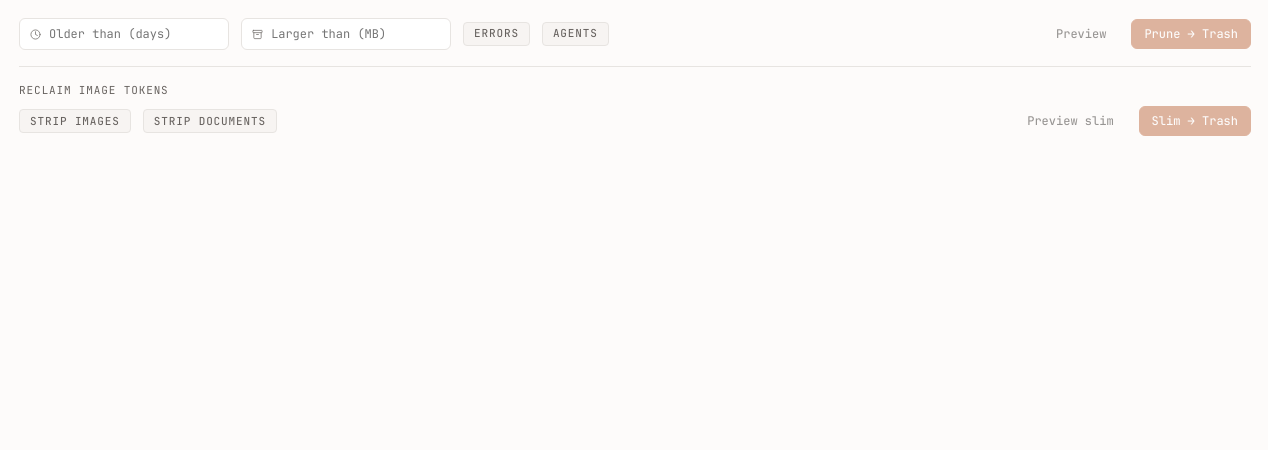
CleanupPane › slim preview failed_to_plan banner shows `and N more` when > 10
Type "7" into the number field named "Older than days" at {"x": 134, "y": 34}, box x1=49 y1=26 x2=218 y2=42
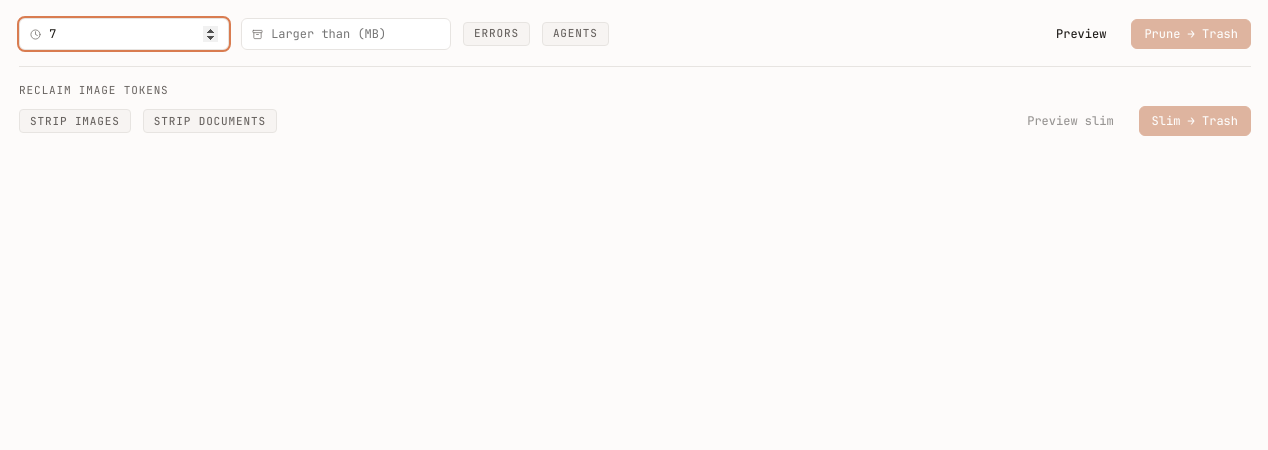
Click the switch labelled "Strip images" at {"x": 75, "y": 121}, box x1=19 y1=109 x2=131 y2=133
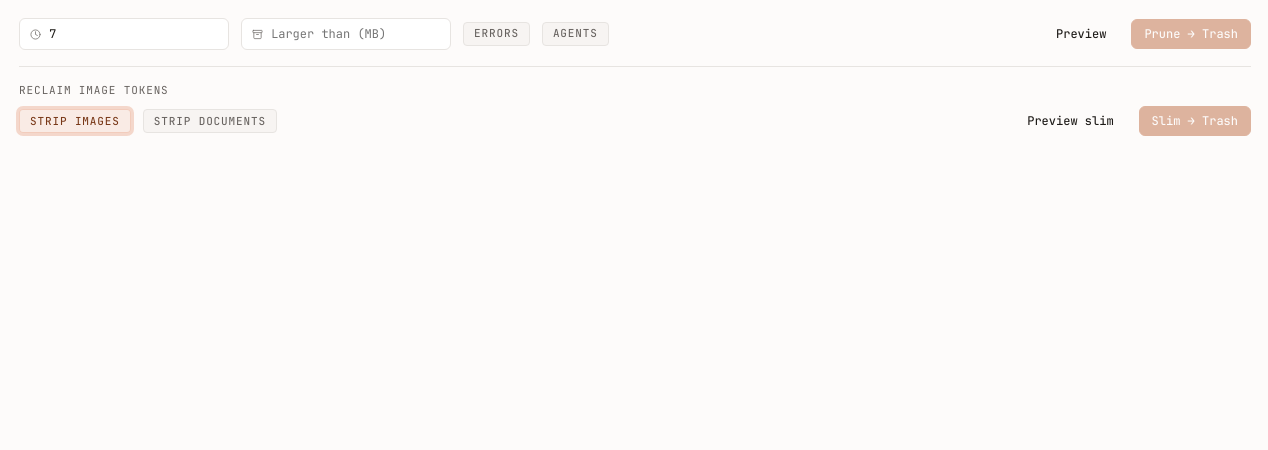
Click the button "Preview slim" at {"x": 1070, "y": 121}, box x1=1014 y1=106 x2=1127 y2=136
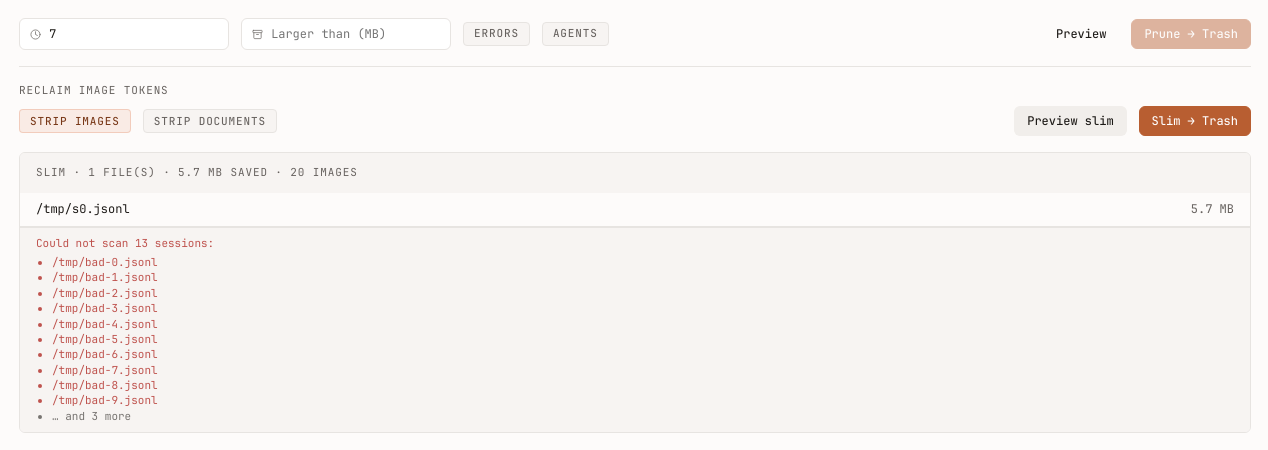
Check: the element with test id "slim-preview" is shown
Check: the list item "/tmp/bad-0.jsonl" is shown, box x1=52 y1=255 x2=158 y2=269
Check: the list item "/tmp/bad-9.jsonl" is shown, box x1=52 y1=394 x2=158 y2=408
